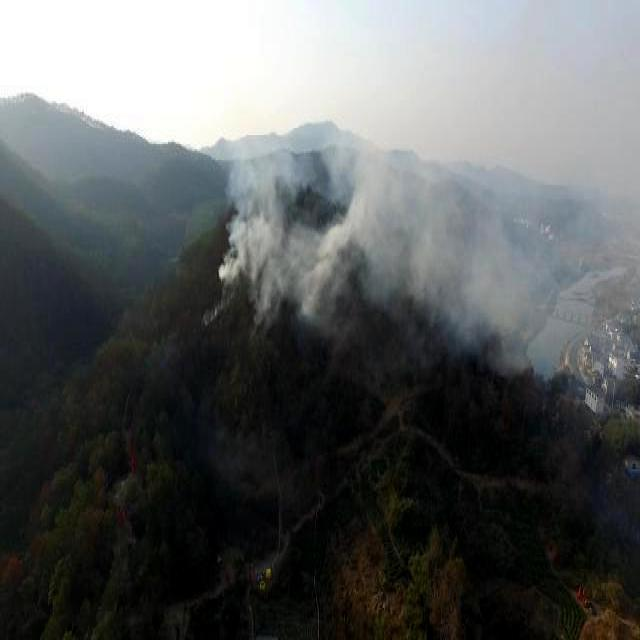Smoke: (193, 25, 634, 355)
